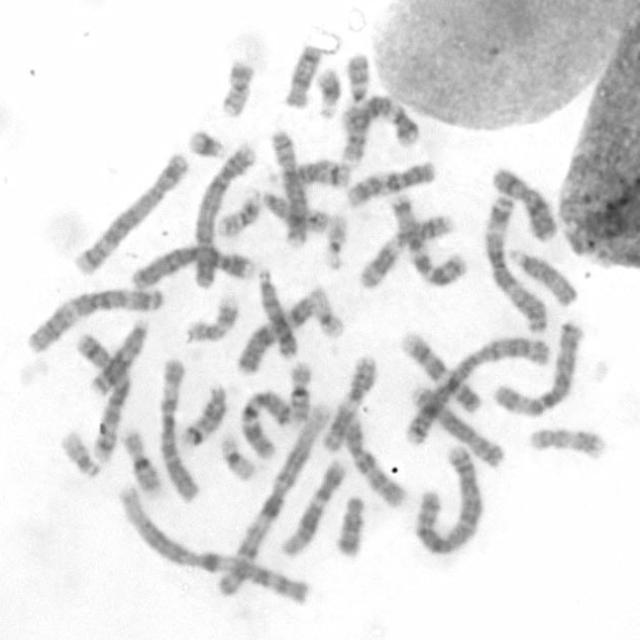A1: (119, 479, 312, 610), (215, 399, 333, 598)
A2: (403, 337, 549, 447), (415, 442, 481, 555)
A3: (24, 288, 164, 357), (485, 195, 549, 333)
B4: (192, 142, 255, 288), (132, 242, 258, 291)
B5: (72, 152, 190, 279), (73, 331, 132, 463)
C10: (344, 419, 408, 509), (344, 159, 437, 207)
C11: (358, 212, 454, 291), (322, 354, 378, 454)
C12: (277, 460, 350, 557), (338, 95, 422, 149)
C6: (490, 322, 584, 417), (159, 357, 202, 503)
C7: (388, 193, 467, 289), (240, 389, 290, 460)
C8: (409, 384, 507, 470), (270, 129, 308, 248)
C9: (403, 335, 481, 413), (340, 53, 369, 168)
D13: (90, 314, 150, 400), (255, 266, 299, 358)
D14: (180, 382, 228, 448), (268, 158, 350, 188)
D15: (508, 247, 580, 308), (252, 188, 327, 234)
E16: (119, 430, 161, 492), (289, 361, 314, 423)
E17: (185, 291, 240, 347), (526, 428, 611, 461)
E18: (286, 41, 324, 109), (336, 495, 371, 560)
F19: (308, 284, 348, 340), (219, 433, 256, 481)
F20: (220, 56, 258, 117), (217, 192, 262, 238)
G21: (187, 127, 229, 161), (315, 66, 341, 120)
G22: (58, 429, 101, 478), (325, 212, 349, 270)
X: (234, 296, 315, 375), (492, 167, 558, 246)
